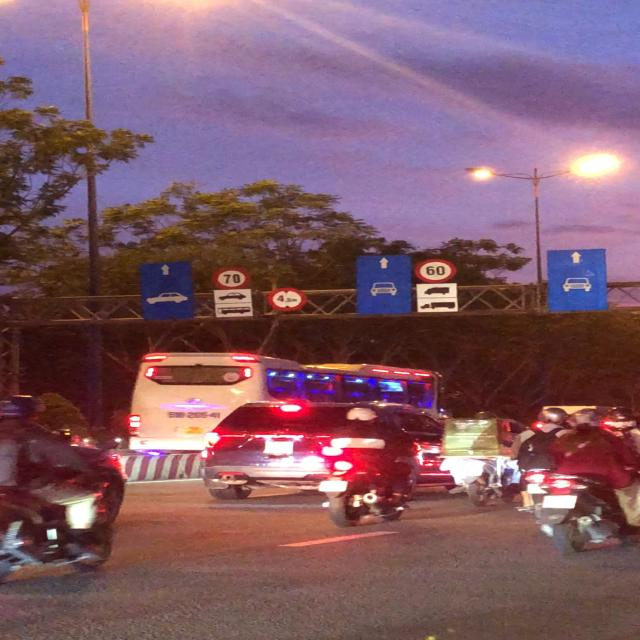Bien bao han che chieu cao: (266, 286, 308, 313)
Bien bao toc do toi da cho phep: (412, 259, 460, 286), (210, 264, 251, 292)
